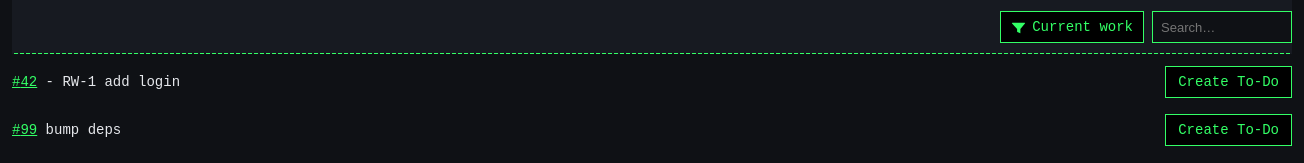
Test: PrPanel › filters rows by the search box
Type "deps" into the search field named "Search PRs" at x=1222, y=27, box x1=1152 y1=11 x2=1292 y2=43
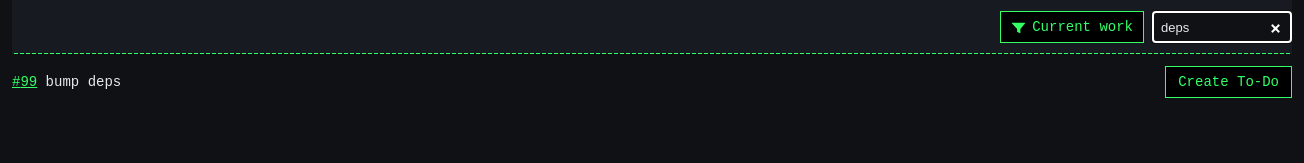
Expected: the text "#99 bump deps" is shown, x1=12 y1=74 x2=121 y2=90
Result: the text "add login" is gone
